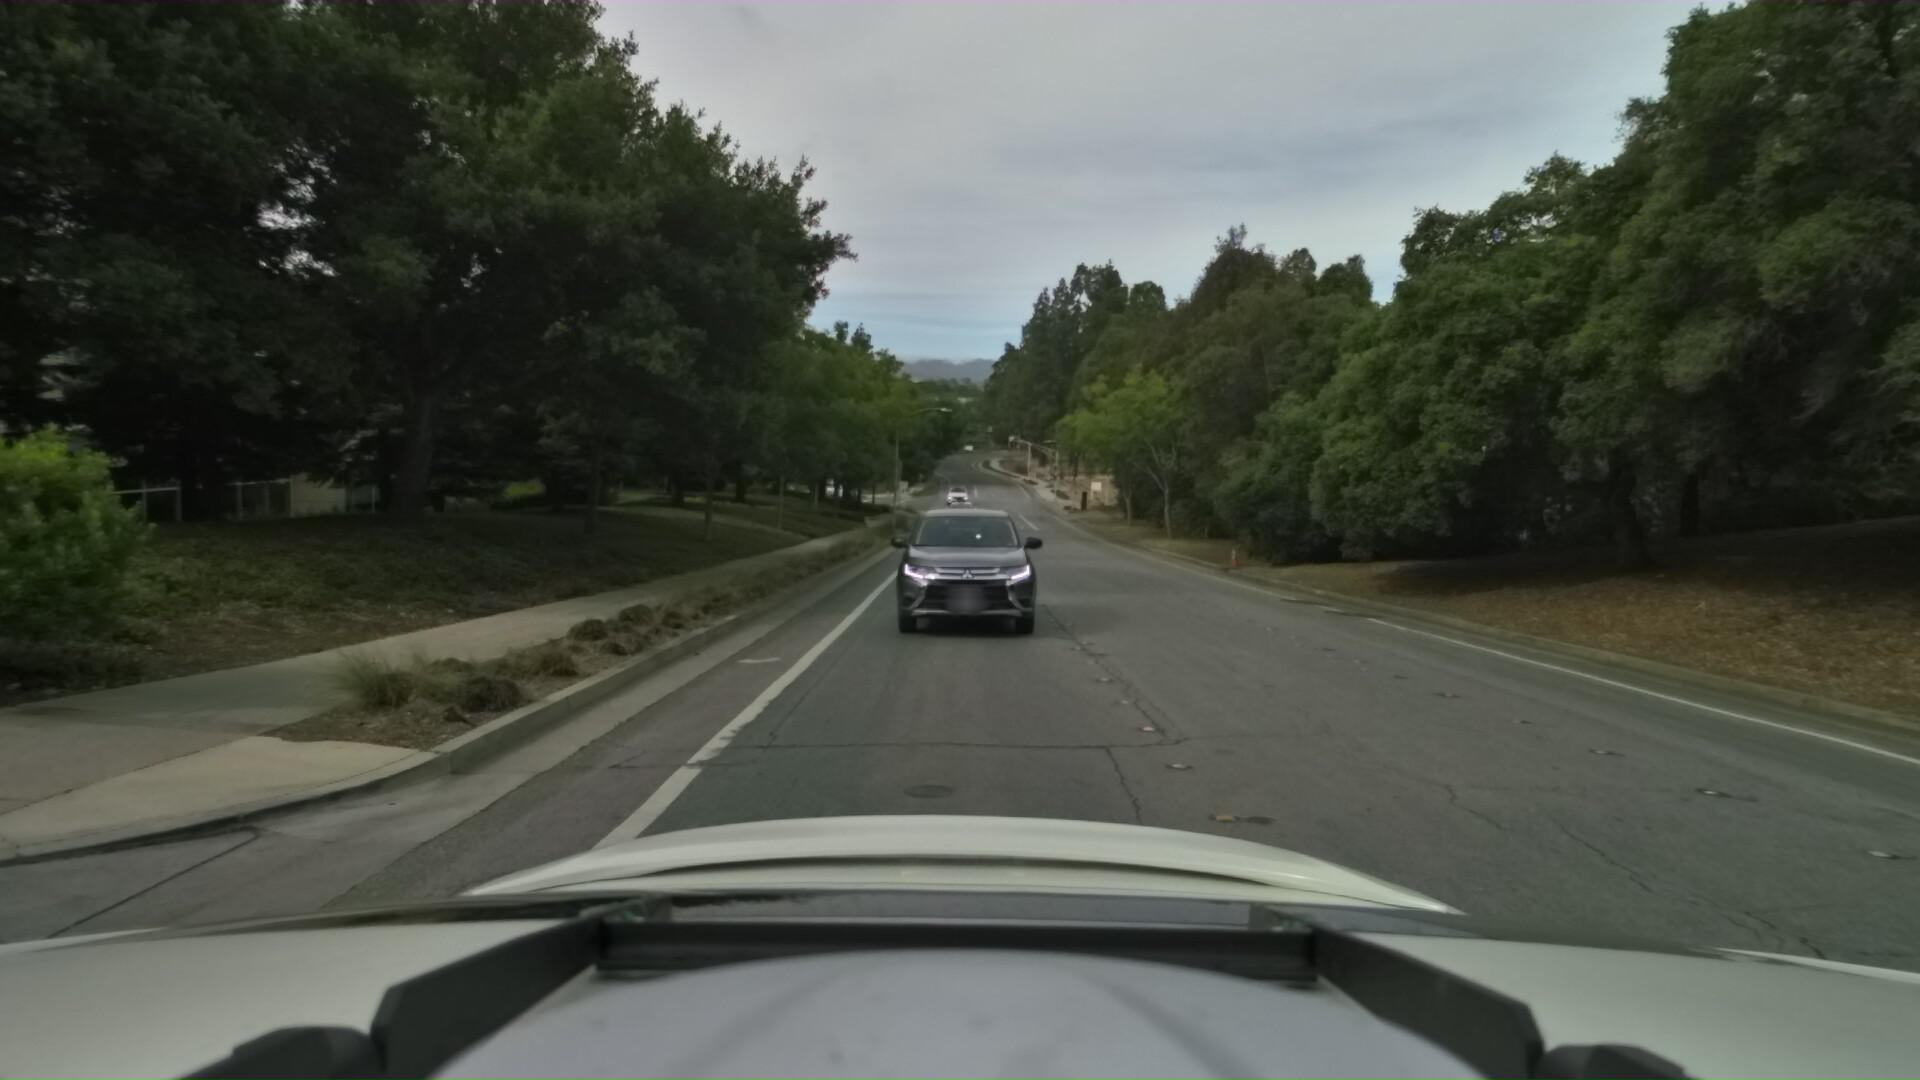car: (876, 481, 1046, 682)
